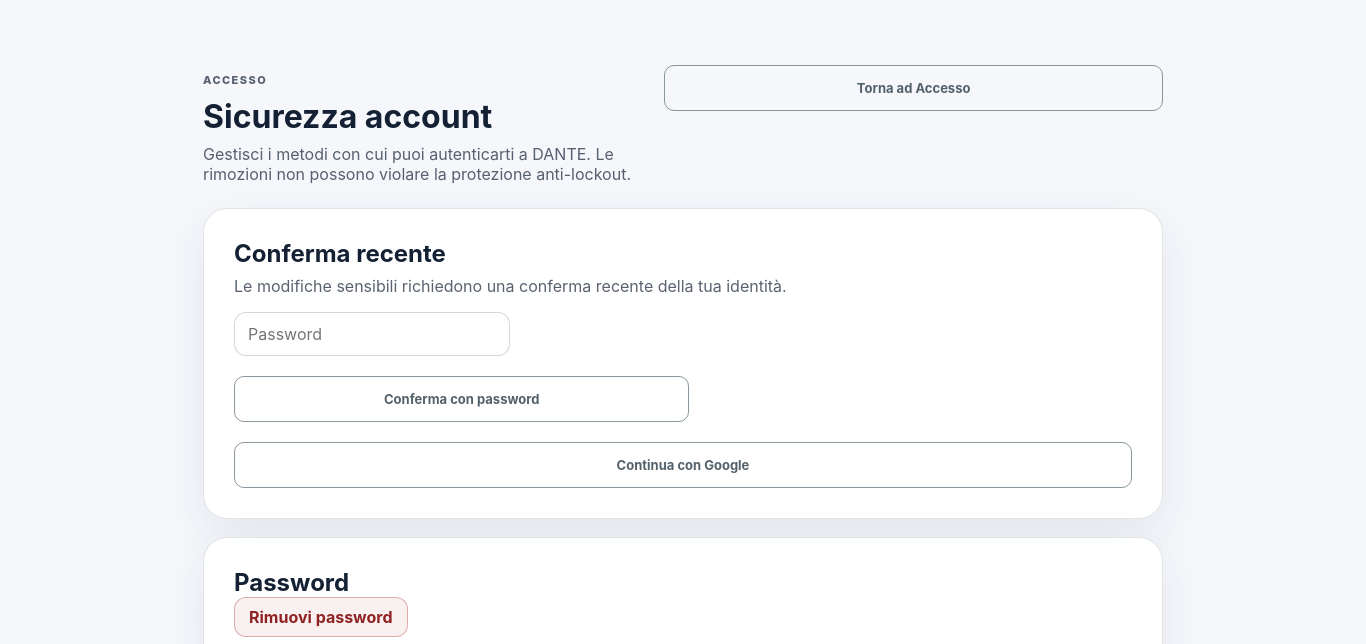
Test: AccessSecurityPage › surfaces localized anti-lockout reauthentication requirements while wiring removal to session authority
The image size is (1366, 644).
Click the button "Rimuovi password" at coordinates (321, 617), box x1=234 y1=597 x2=408 y2=637
(page scrolled)
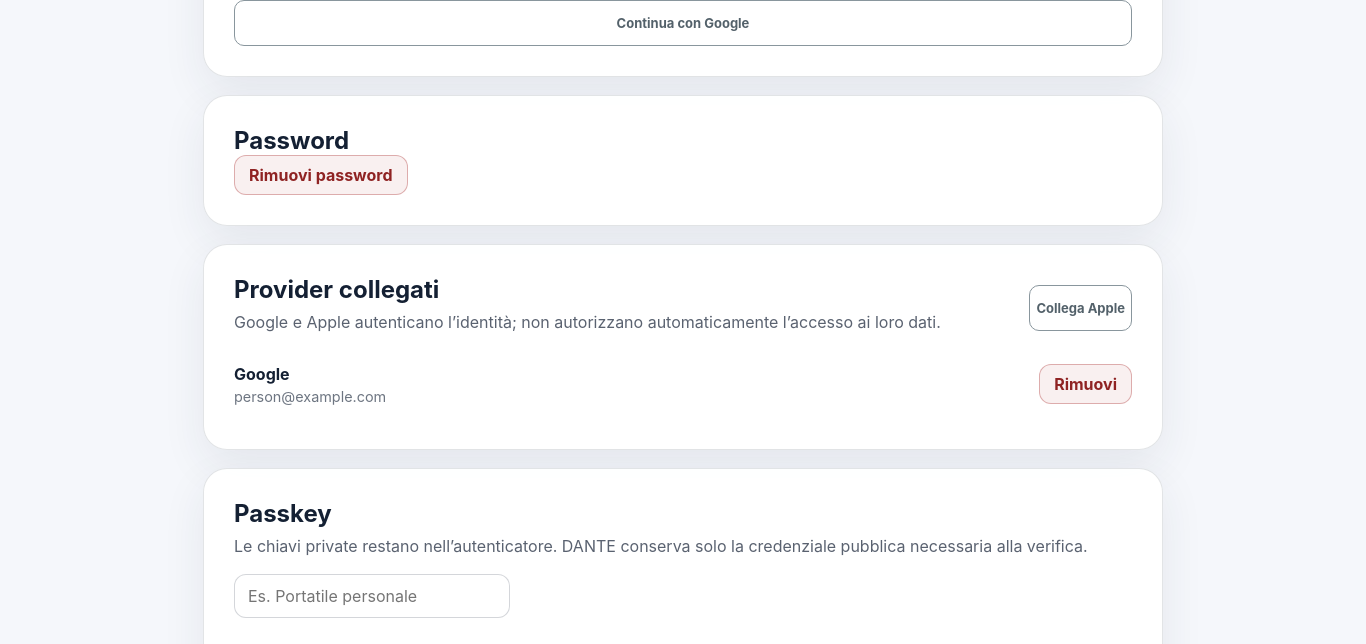
Click the button "Rimuovi" at coordinates (1086, 384), box x1=1039 y1=364 x2=1132 y2=404
(page scrolled)
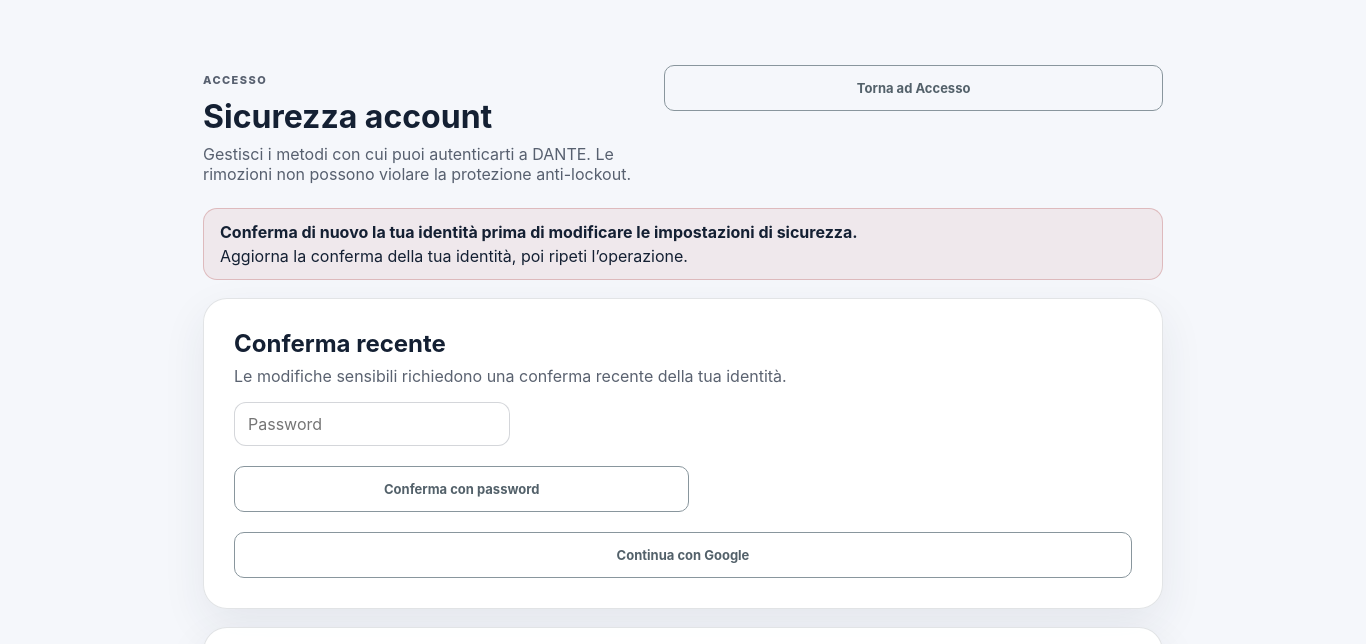
Expected: the message shows "Conferma di nuovo la tua identità prima di modificare le impostazioni di sicurezza.", x1=220 y1=222 x2=858 y2=242
Expected: the message shows "Aggiorna la conferma della tua identità, poi ripeti l’operazione.", x1=220 y1=246 x2=688 y2=266
